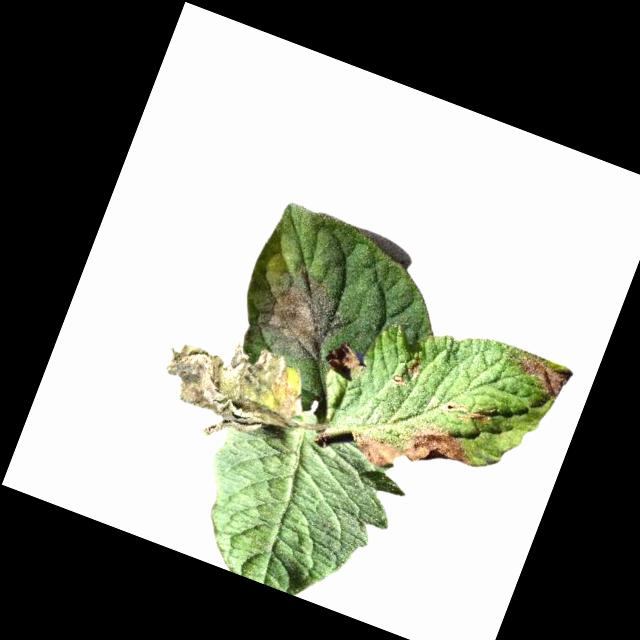Late_blight: (146, 318, 322, 469), (343, 397, 482, 499), (247, 253, 354, 369), (497, 345, 575, 406), (320, 338, 370, 387), (438, 395, 495, 433), (387, 348, 425, 393)
healthy: (179, 404, 412, 619)
